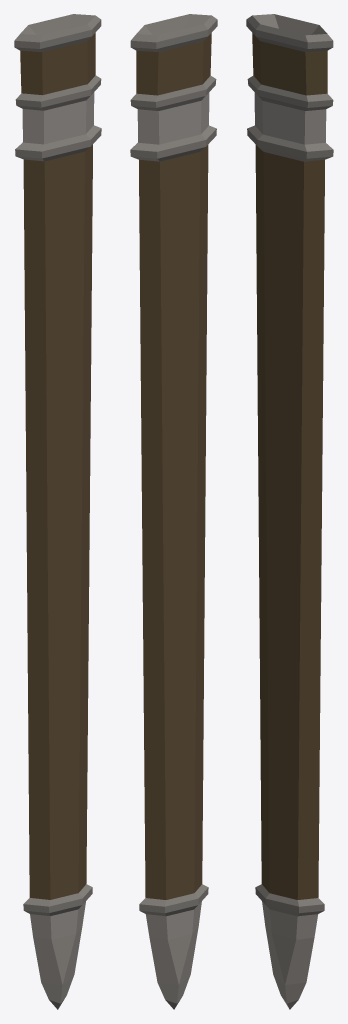
File: SM_pwe_medieval_sword_scabbard_01.fbx
The picture shows the model from 3 angles, left to right: view 1: azimuth 30°, elevation 25°; view 2: azimuth 210°, elevation 25°; view 3: azimuth 330°, elevation 25°; orthographic projection.
Parts seen in each view (by area): view 1: SM_pwe_medieval_sword_scabbard_01; view 2: SM_pwe_medieval_sword_scabbard_01; view 3: SM_pwe_medieval_sword_scabbard_01.
Part boxes in pixels (x1,y1,x2,y2): SM_pwe_medieval_sword_scabbard_01: (14, 14, 101, 1009); SM_pwe_medieval_sword_scabbard_01: (130, 14, 217, 1009); SM_pwe_medieval_sword_scabbard_01: (246, 14, 333, 1009).
Size of the model in its own units: 8.01 by 86.39 by 2.58.
